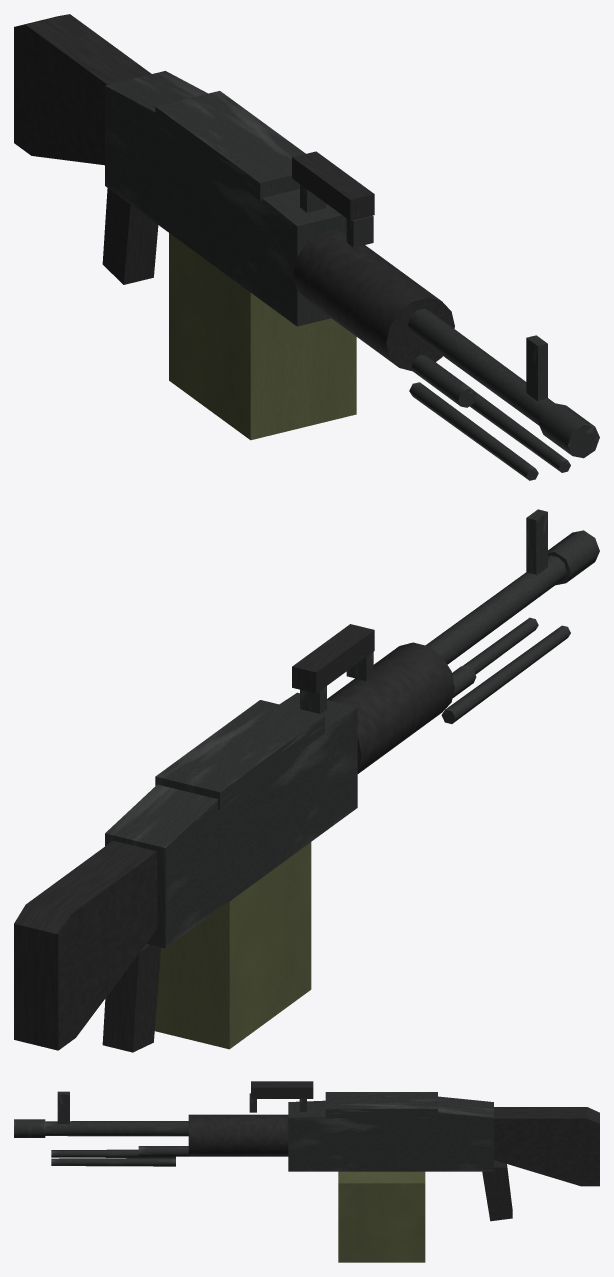
File: weapon-m249.glb
The picture shows the model from 3 angles, top to bottom: view 1: azimuth 30°, elevation 25°; view 2: azimuth 150°, elevation 25°; view 3: azimuth 270°, elevation 25°; orthographic projection. The views are drawn at different scales.
Visible parts, largest first — view 1: weapon-m249; view 2: weapon-m249; view 3: weapon-m249.
Part boxes in pixels (left/top/right/bottom): weapon-m249: left=14, top=14, right=599, bottom=480; weapon-m249: left=14, top=509, right=599, bottom=1052; weapon-m249: left=14, top=1081, right=599, bottom=1262.
Bounding box in the file's own units: 0.109 × 0.28 × 0.94.
Materials: 1 (1 with a texture image).
